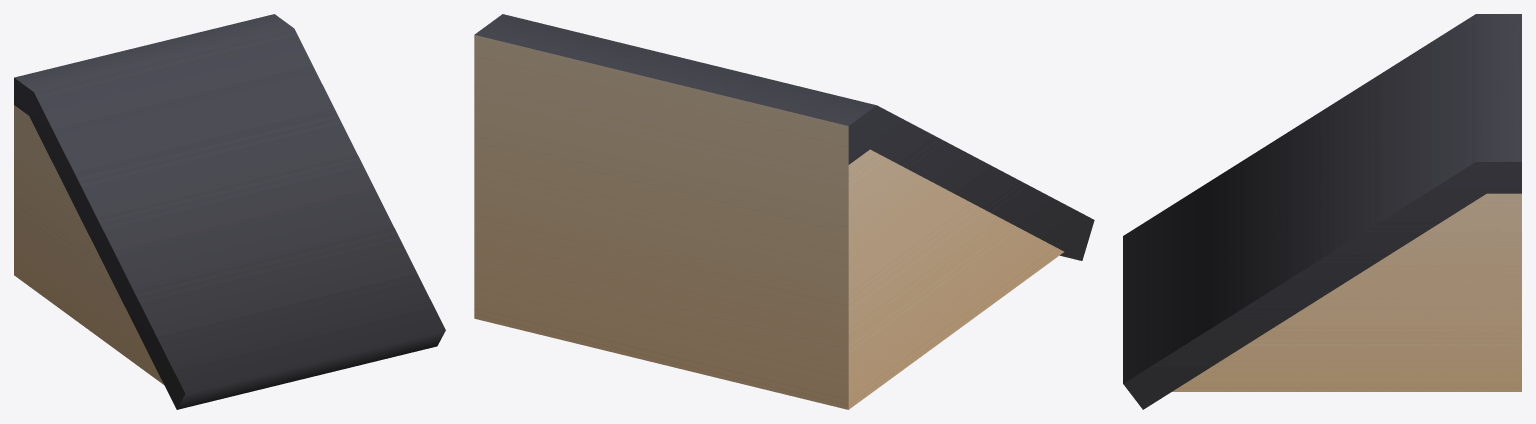
3 renders of one model, left to right at view 1: azimuth 30°, elevation 25°; view 2: azimuth 150°, elevation 25°; view 3: azimuth 270°, elevation 25°, orthographic. The views are drawn at different scales.
Parts seen in each view (by area): view 1: roof-slanted; view 2: roof-slanted; view 3: roof-slanted.
Part boxes in pixels (x1=…): roof-slanted: x1=14, y1=14, x2=445, y2=409; roof-slanted: x1=474, y1=14, x2=1094, y2=409; roof-slanted: x1=1123, y1=14, x2=1521, y2=409.
Size of the model in its own units: 1 by 0.782 by 1.14.
Materials: 1 (1 with a texture image).
